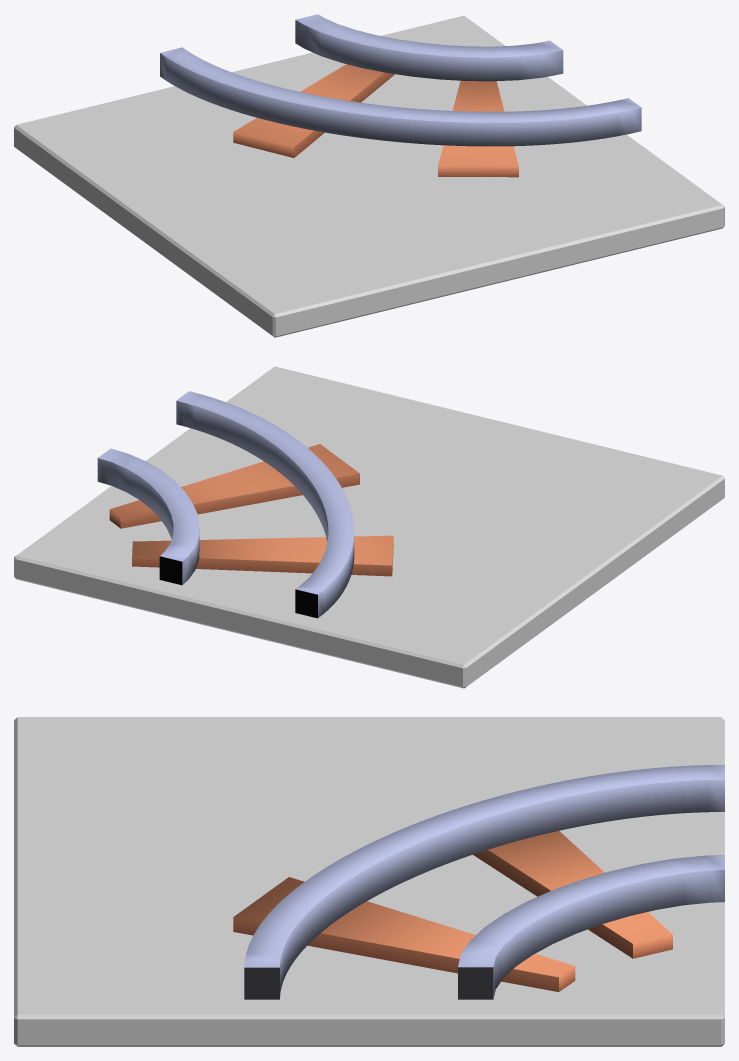
Rendered from track_curve_03.glb.
The picture shows the model from 3 angles, top to bottom: view 1: azimuth 30°, elevation 25°; view 2: azimuth 150°, elevation 25°; view 3: azimuth 270°, elevation 25°; orthographic projection. The views are drawn at different scales.
Parts seen in each view (by area): view 1: Floor.001, track-detailed.004, track-detailed.005, track-detailed.001; view 2: Floor.001, track-detailed.001, track-detailed.004, track-detailed.005; view 3: Floor.001, track-detailed.004, track-detailed.001, track-detailed.005.
Boxes of the visible parts, <box> form: Floor.001: <box>14,15,724,337</box>; track-detailed.004: <box>160,47,641,146</box>; track-detailed.005: <box>295,14,563,81</box>; track-detailed.001: <box>233,64,518,177</box>; Floor.001: <box>14,366,724,688</box>; track-detailed.001: <box>109,444,393,576</box>; track-detailed.004: <box>176,391,354,618</box>; track-detailed.005: <box>97,448,199,585</box>; Floor.001: <box>14,717,724,1046</box>; track-detailed.004: <box>244,764,724,999</box>; track-detailed.001: <box>233,831,672,991</box>; track-detailed.005: <box>458,855,724,999</box>.
Size of the model in its own units: 2 by 0.2512 by 2.
Materials: 1 (1 with a texture image).
